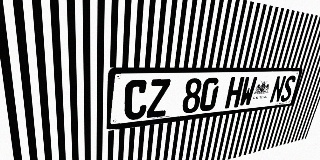0: (199, 77, 220, 112)
8: (181, 78, 204, 114)
C: (123, 79, 149, 121)
H: (224, 77, 245, 109)
N: (269, 76, 287, 103)
S: (279, 75, 297, 102)
W: (238, 76, 258, 107)
Z: (146, 79, 171, 118)
